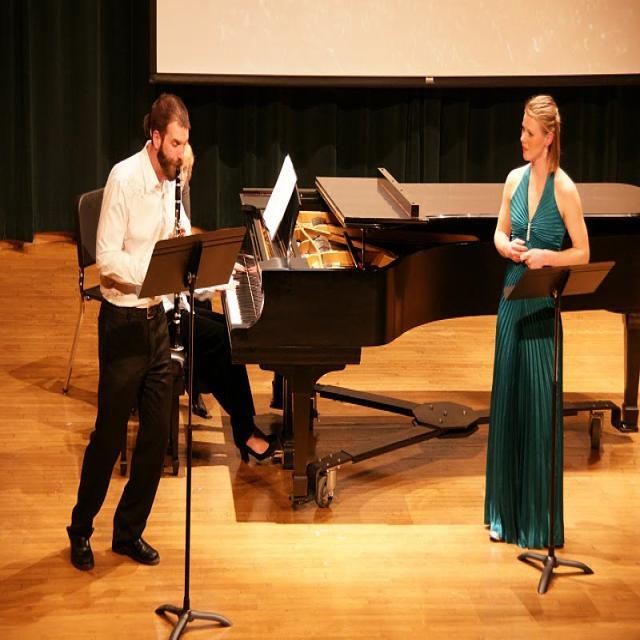clarinet: (167, 165, 187, 356)
